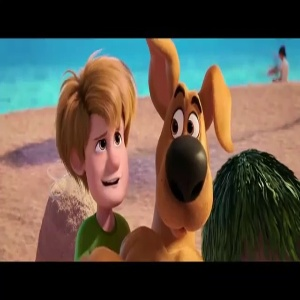Scooby: (142, 35, 235, 233)
Shagy: (48, 49, 137, 209)
